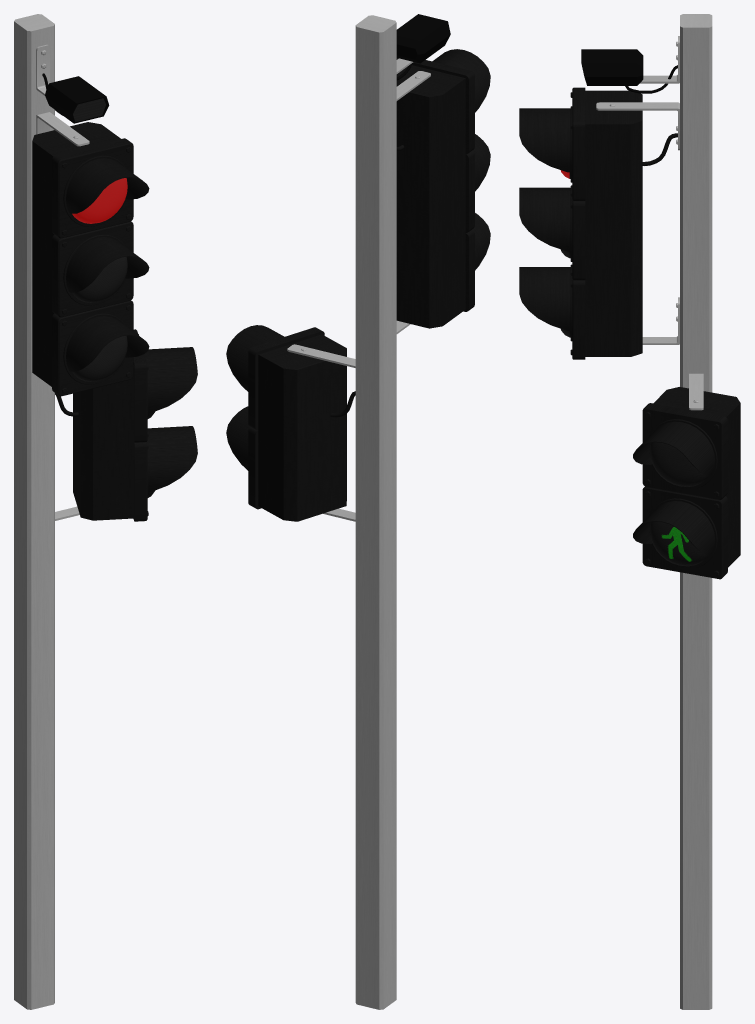
Rendered from traffic_light_-_free_low_poly.glb.
The picture shows the model from 3 angles, left to right: view 1: azimuth 30°, elevation 25°; view 2: azimuth 150°, elevation 25°; view 3: azimuth 270°, elevation 25°; orthographic projection.
Parts seen in each view (by area): view 1: rod, lightTrafficMain, lightPassengerMain, camera, lightTrafficArm; view 2: rod, lightTrafficMain, lightPassengerMain, camera, lightPassengerArm, lightTrafficArm; view 3: lightTrafficMain, rod, lightPassengerMain, camera, lightTrafficArm, lightPassengerArm.
Boxes of the visible parts, box(x1,y1,x2,y2) form: rod: box(14, 14, 54, 1009); lightTrafficMain: box(32, 122, 149, 396); lightPassengerMain: box(73, 329, 197, 521); camera: box(36, 44, 109, 123); lightTrafficArm: box(36, 112, 89, 146); rod: box(355, 15, 396, 1009); lightTrafficMain: box(396, 49, 490, 328); lightPassengerMain: box(226, 325, 346, 521); camera: box(396, 14, 450, 80); lightPassengerArm: box(287, 344, 355, 521); lightTrafficArm: box(396, 71, 430, 333); lightTrafficMain: box(519, 87, 642, 359); rod: box(680, 14, 712, 1009); lightPassengerMain: box(633, 387, 740, 579); camera: box(581, 36, 679, 93); lightTrafficArm: box(596, 102, 679, 344); lightPassengerArm: box(689, 373, 703, 410).
Bounding box in the file's own units: 1.01 × 4.96 × 1.01.
Materials: 13 (12 with a texture image).
